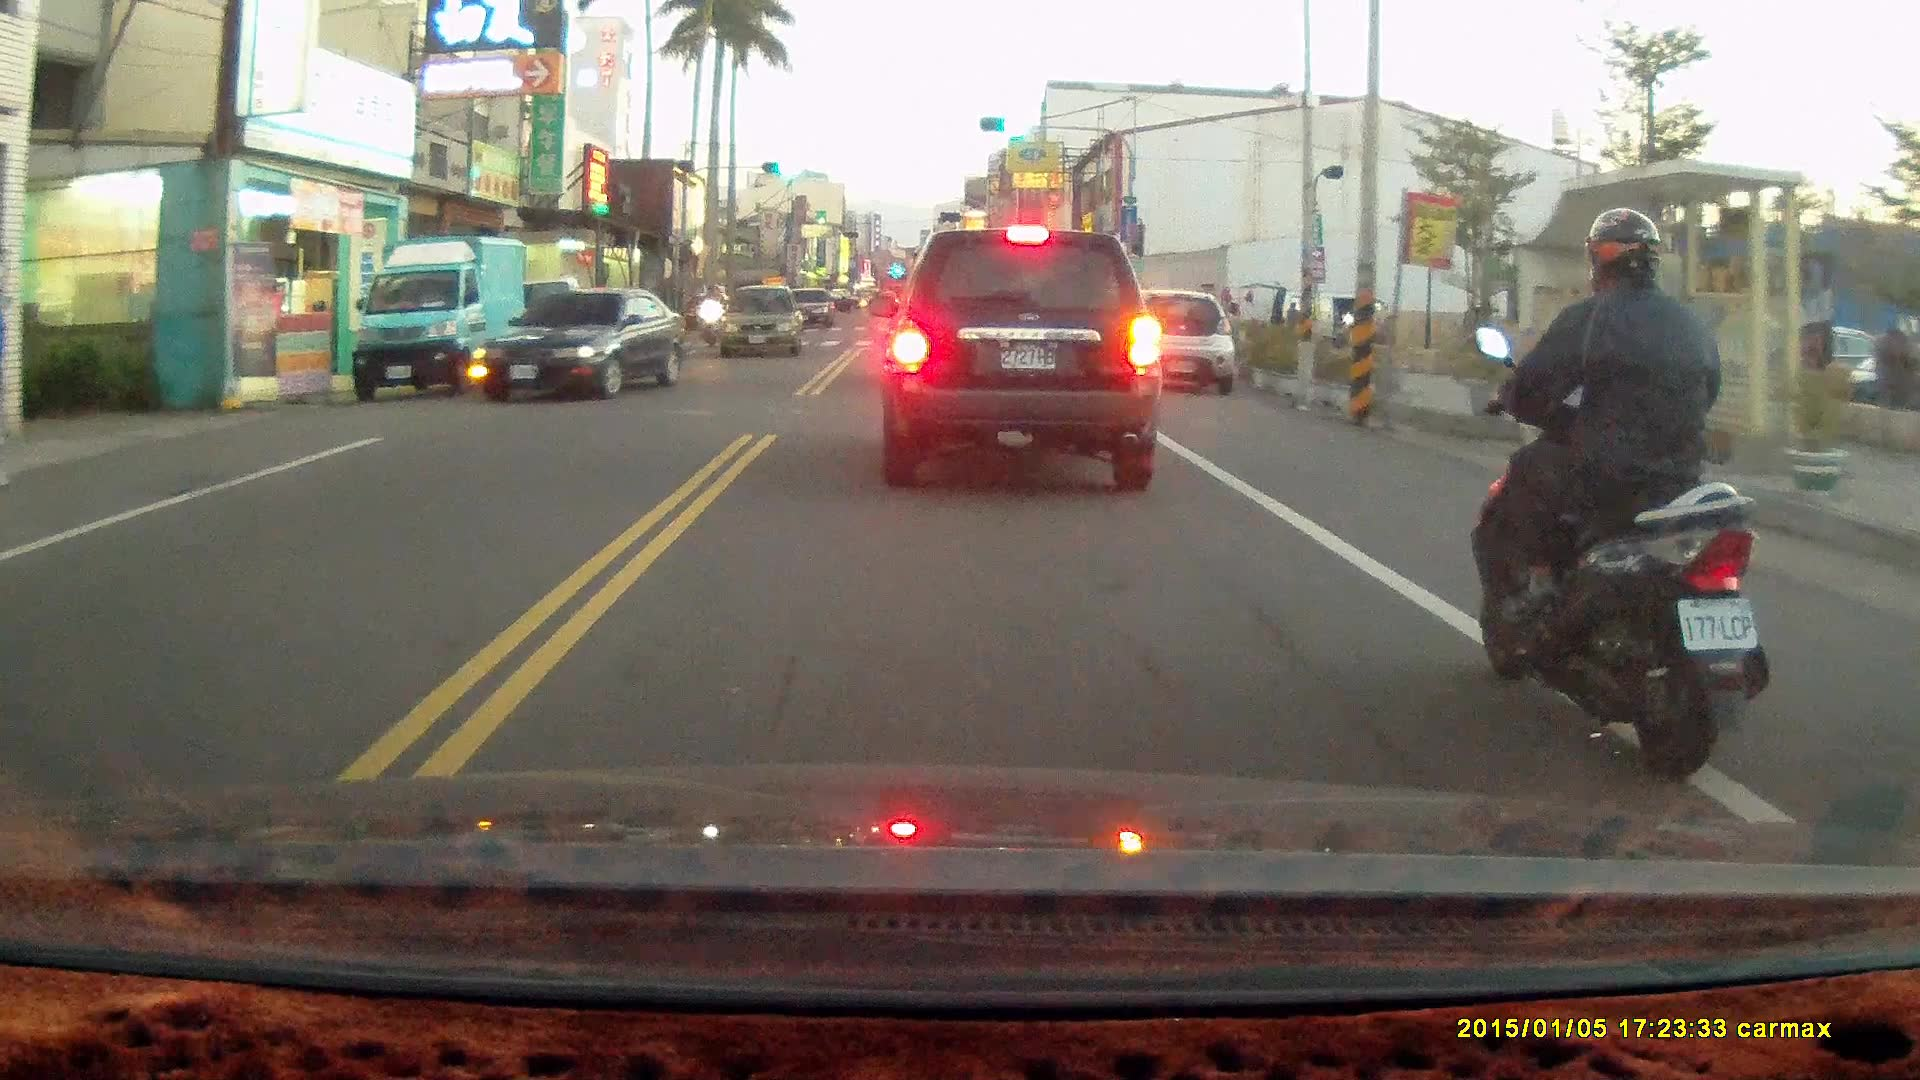rider: (1465, 204, 1767, 779), (696, 283, 727, 351)
vehicle: (877, 229, 1162, 498), (347, 233, 530, 406), (474, 290, 689, 403), (1126, 287, 1240, 399), (716, 286, 808, 363)
